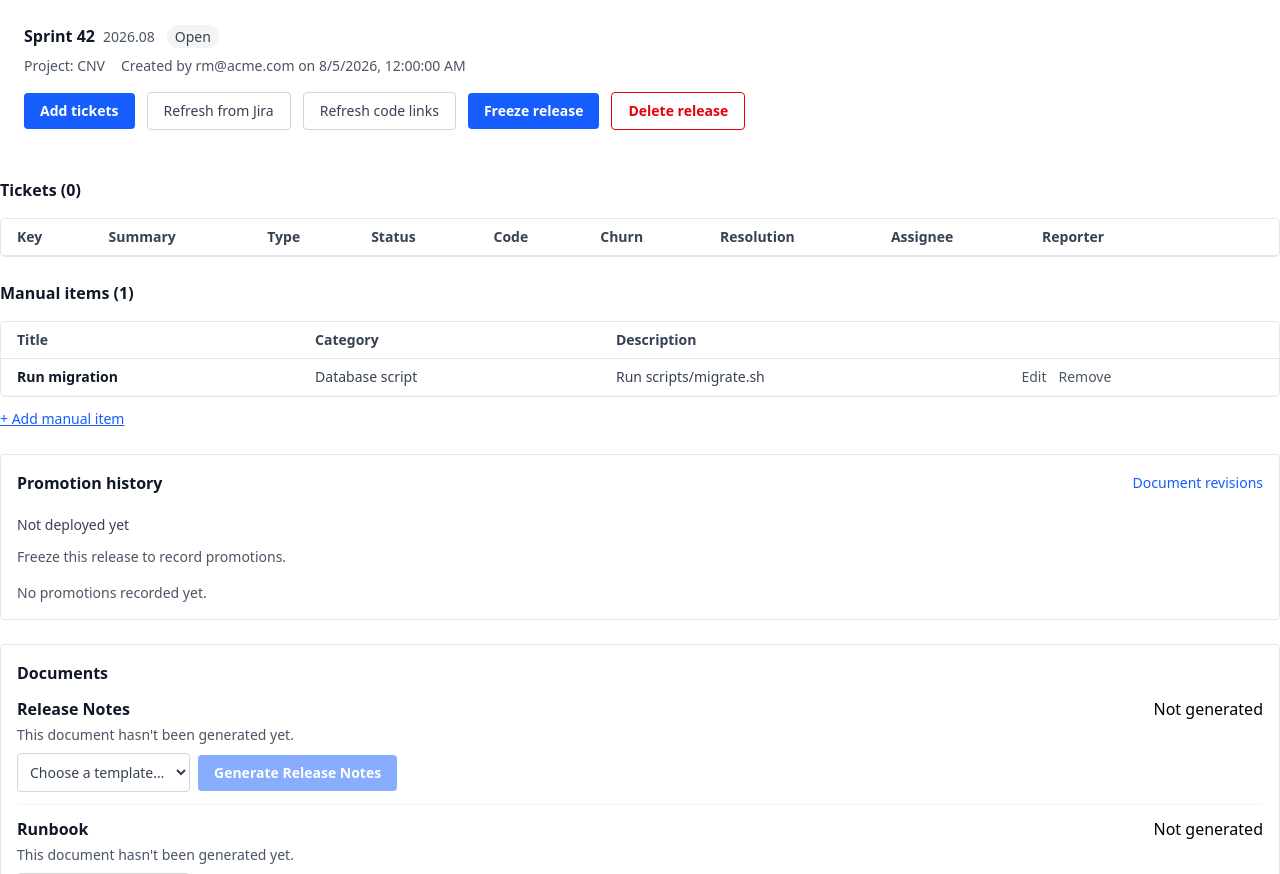
Test: ReleaseDetailRoute › closes the freeze confirmation on failure so the error is readable
Click the button "Freeze release" at [534, 111], box [468, 93, 599, 129]
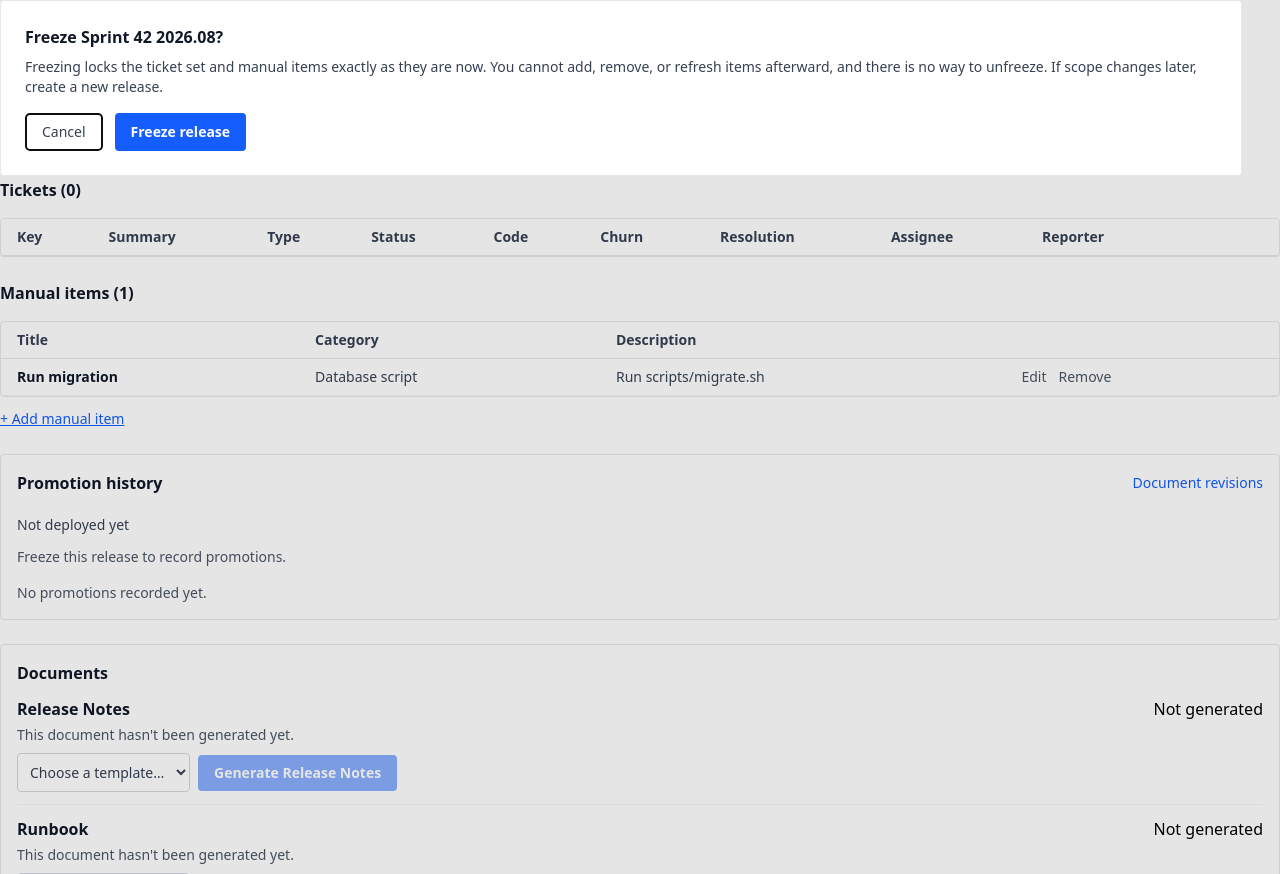
Click the button "Freeze release" at [180, 132], box [115, 113, 246, 151]
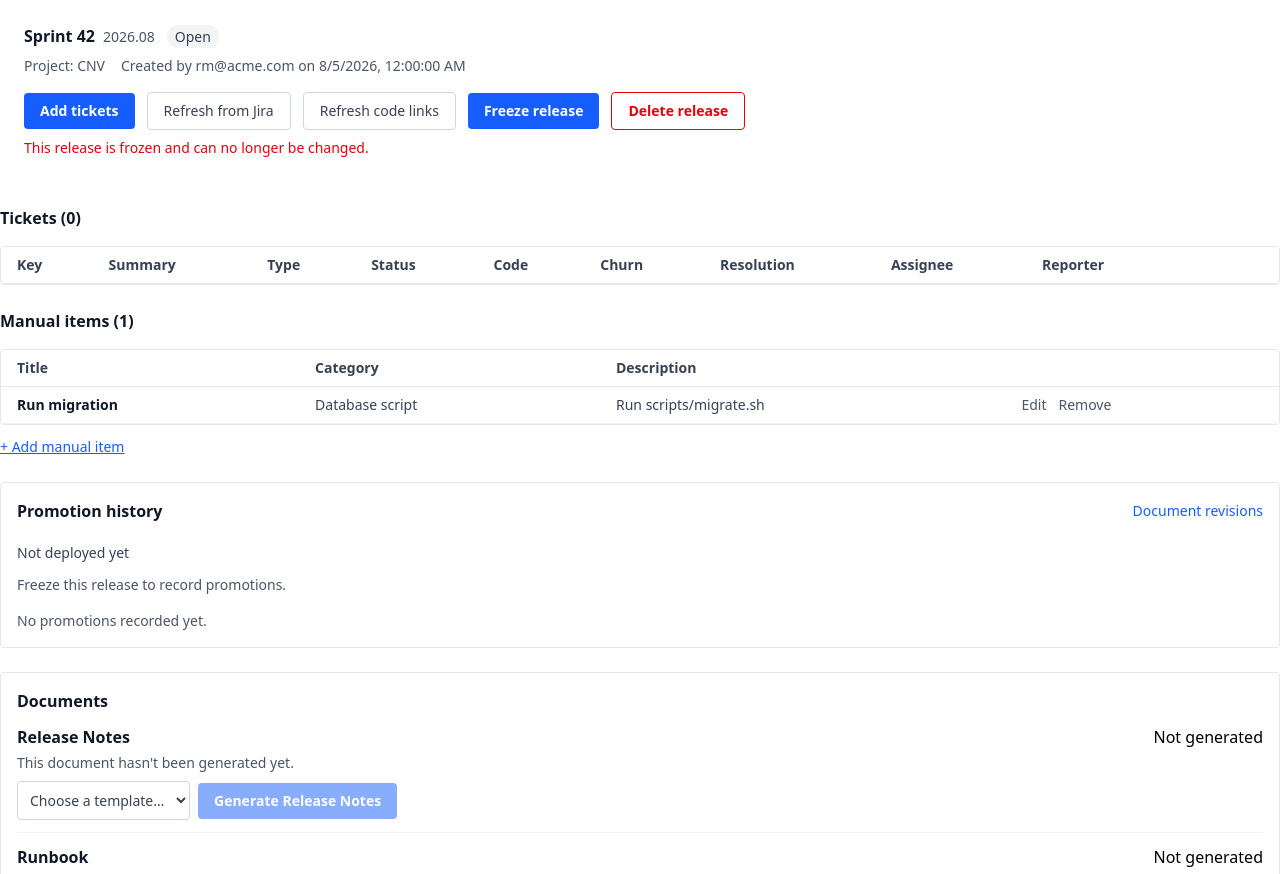
Result: the message "This release is frozen and can no longer be changed." is shown at [24, 138, 369, 157]
